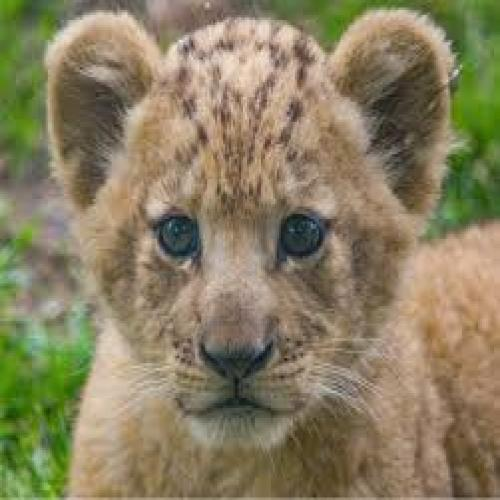lion-endangered: (47, 12, 500, 500)
